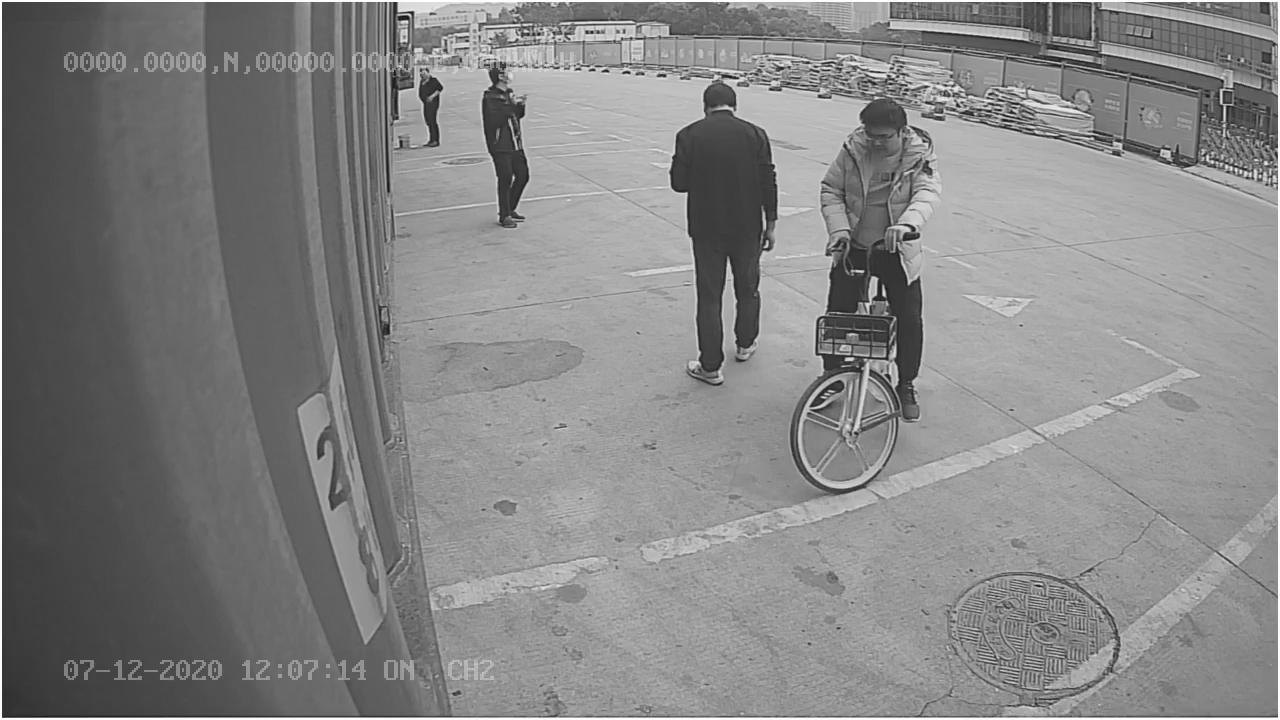person: (669, 74, 784, 383)
